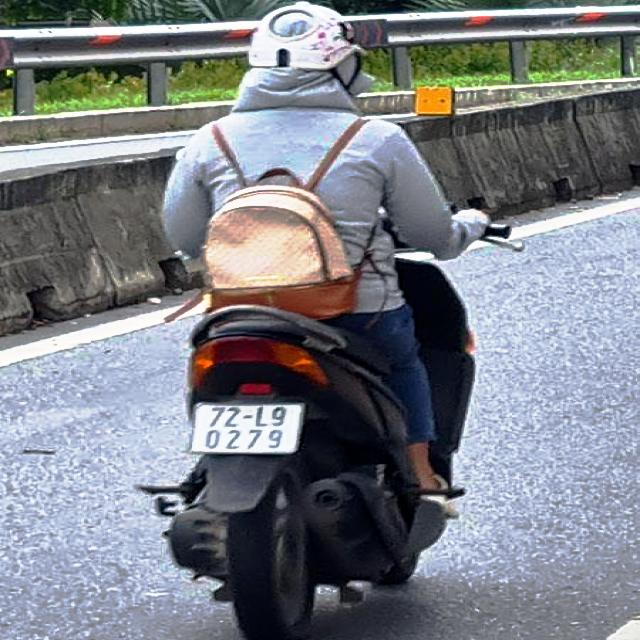license_plate: (198, 404, 304, 455)
